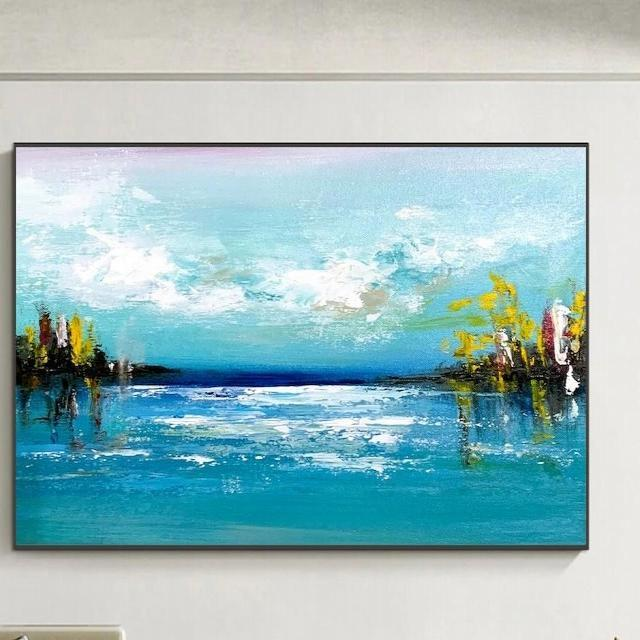painting: (15, 144, 586, 546)
